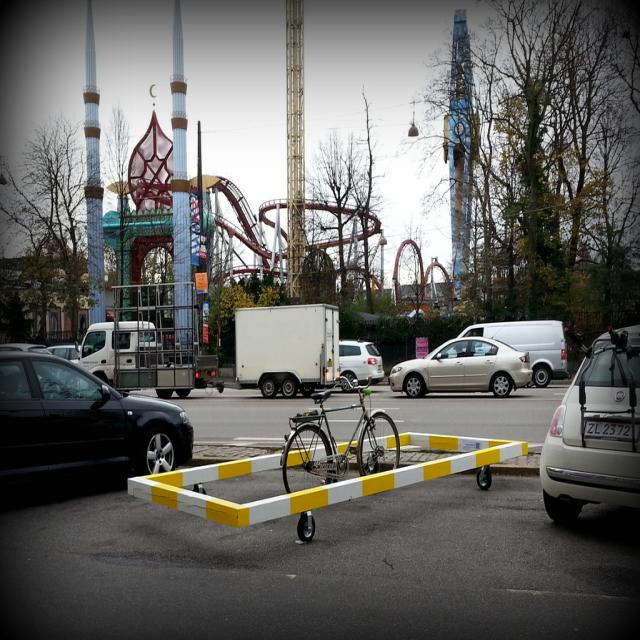car: (388, 322, 533, 395)
